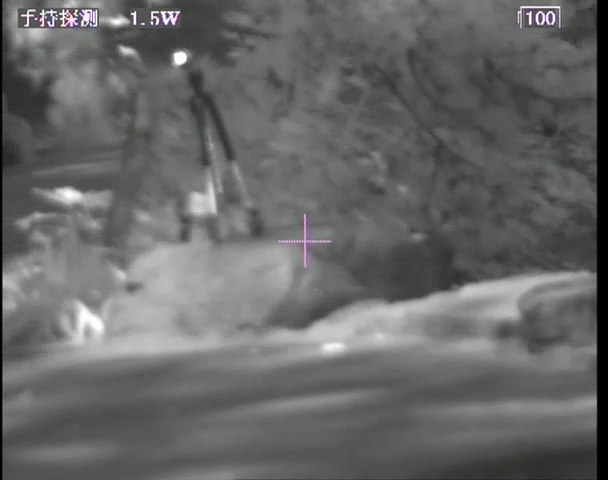my: (170, 49, 192, 67)
